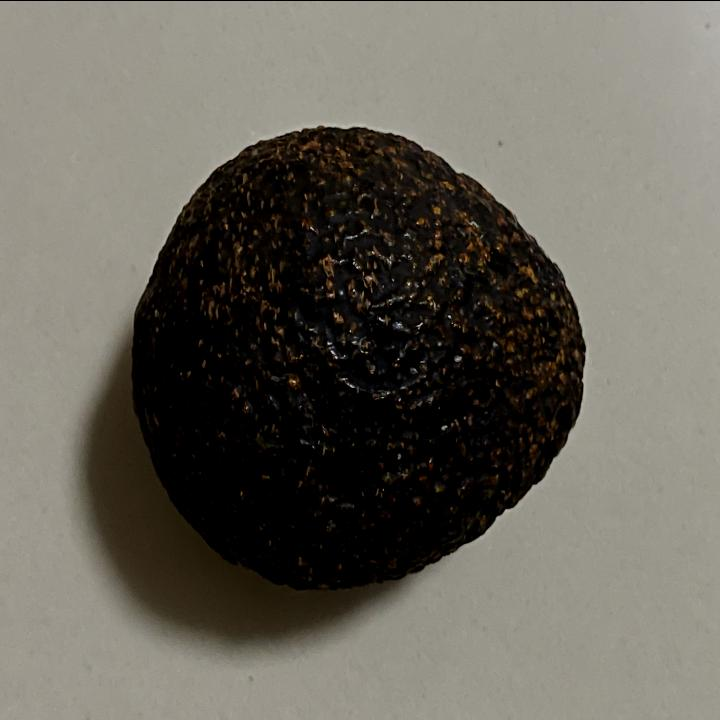Level3: (125, 115, 595, 601)
